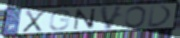D: (147, 4, 174, 29)
G: (48, 8, 72, 31)
N: (73, 8, 97, 31)
O: (123, 6, 147, 29)
V: (99, 5, 126, 31)
X: (21, 9, 48, 33)
